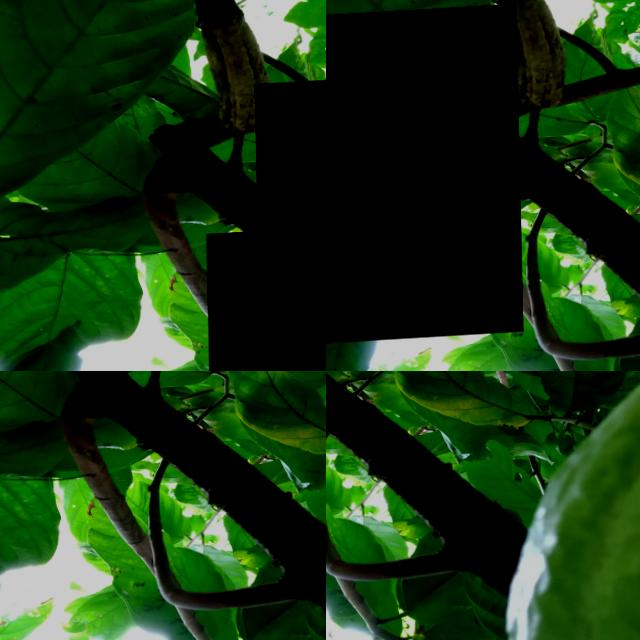Sana: (326, 7, 521, 346), (204, 231, 326, 371), (253, 84, 326, 242), (164, 403, 205, 448)
